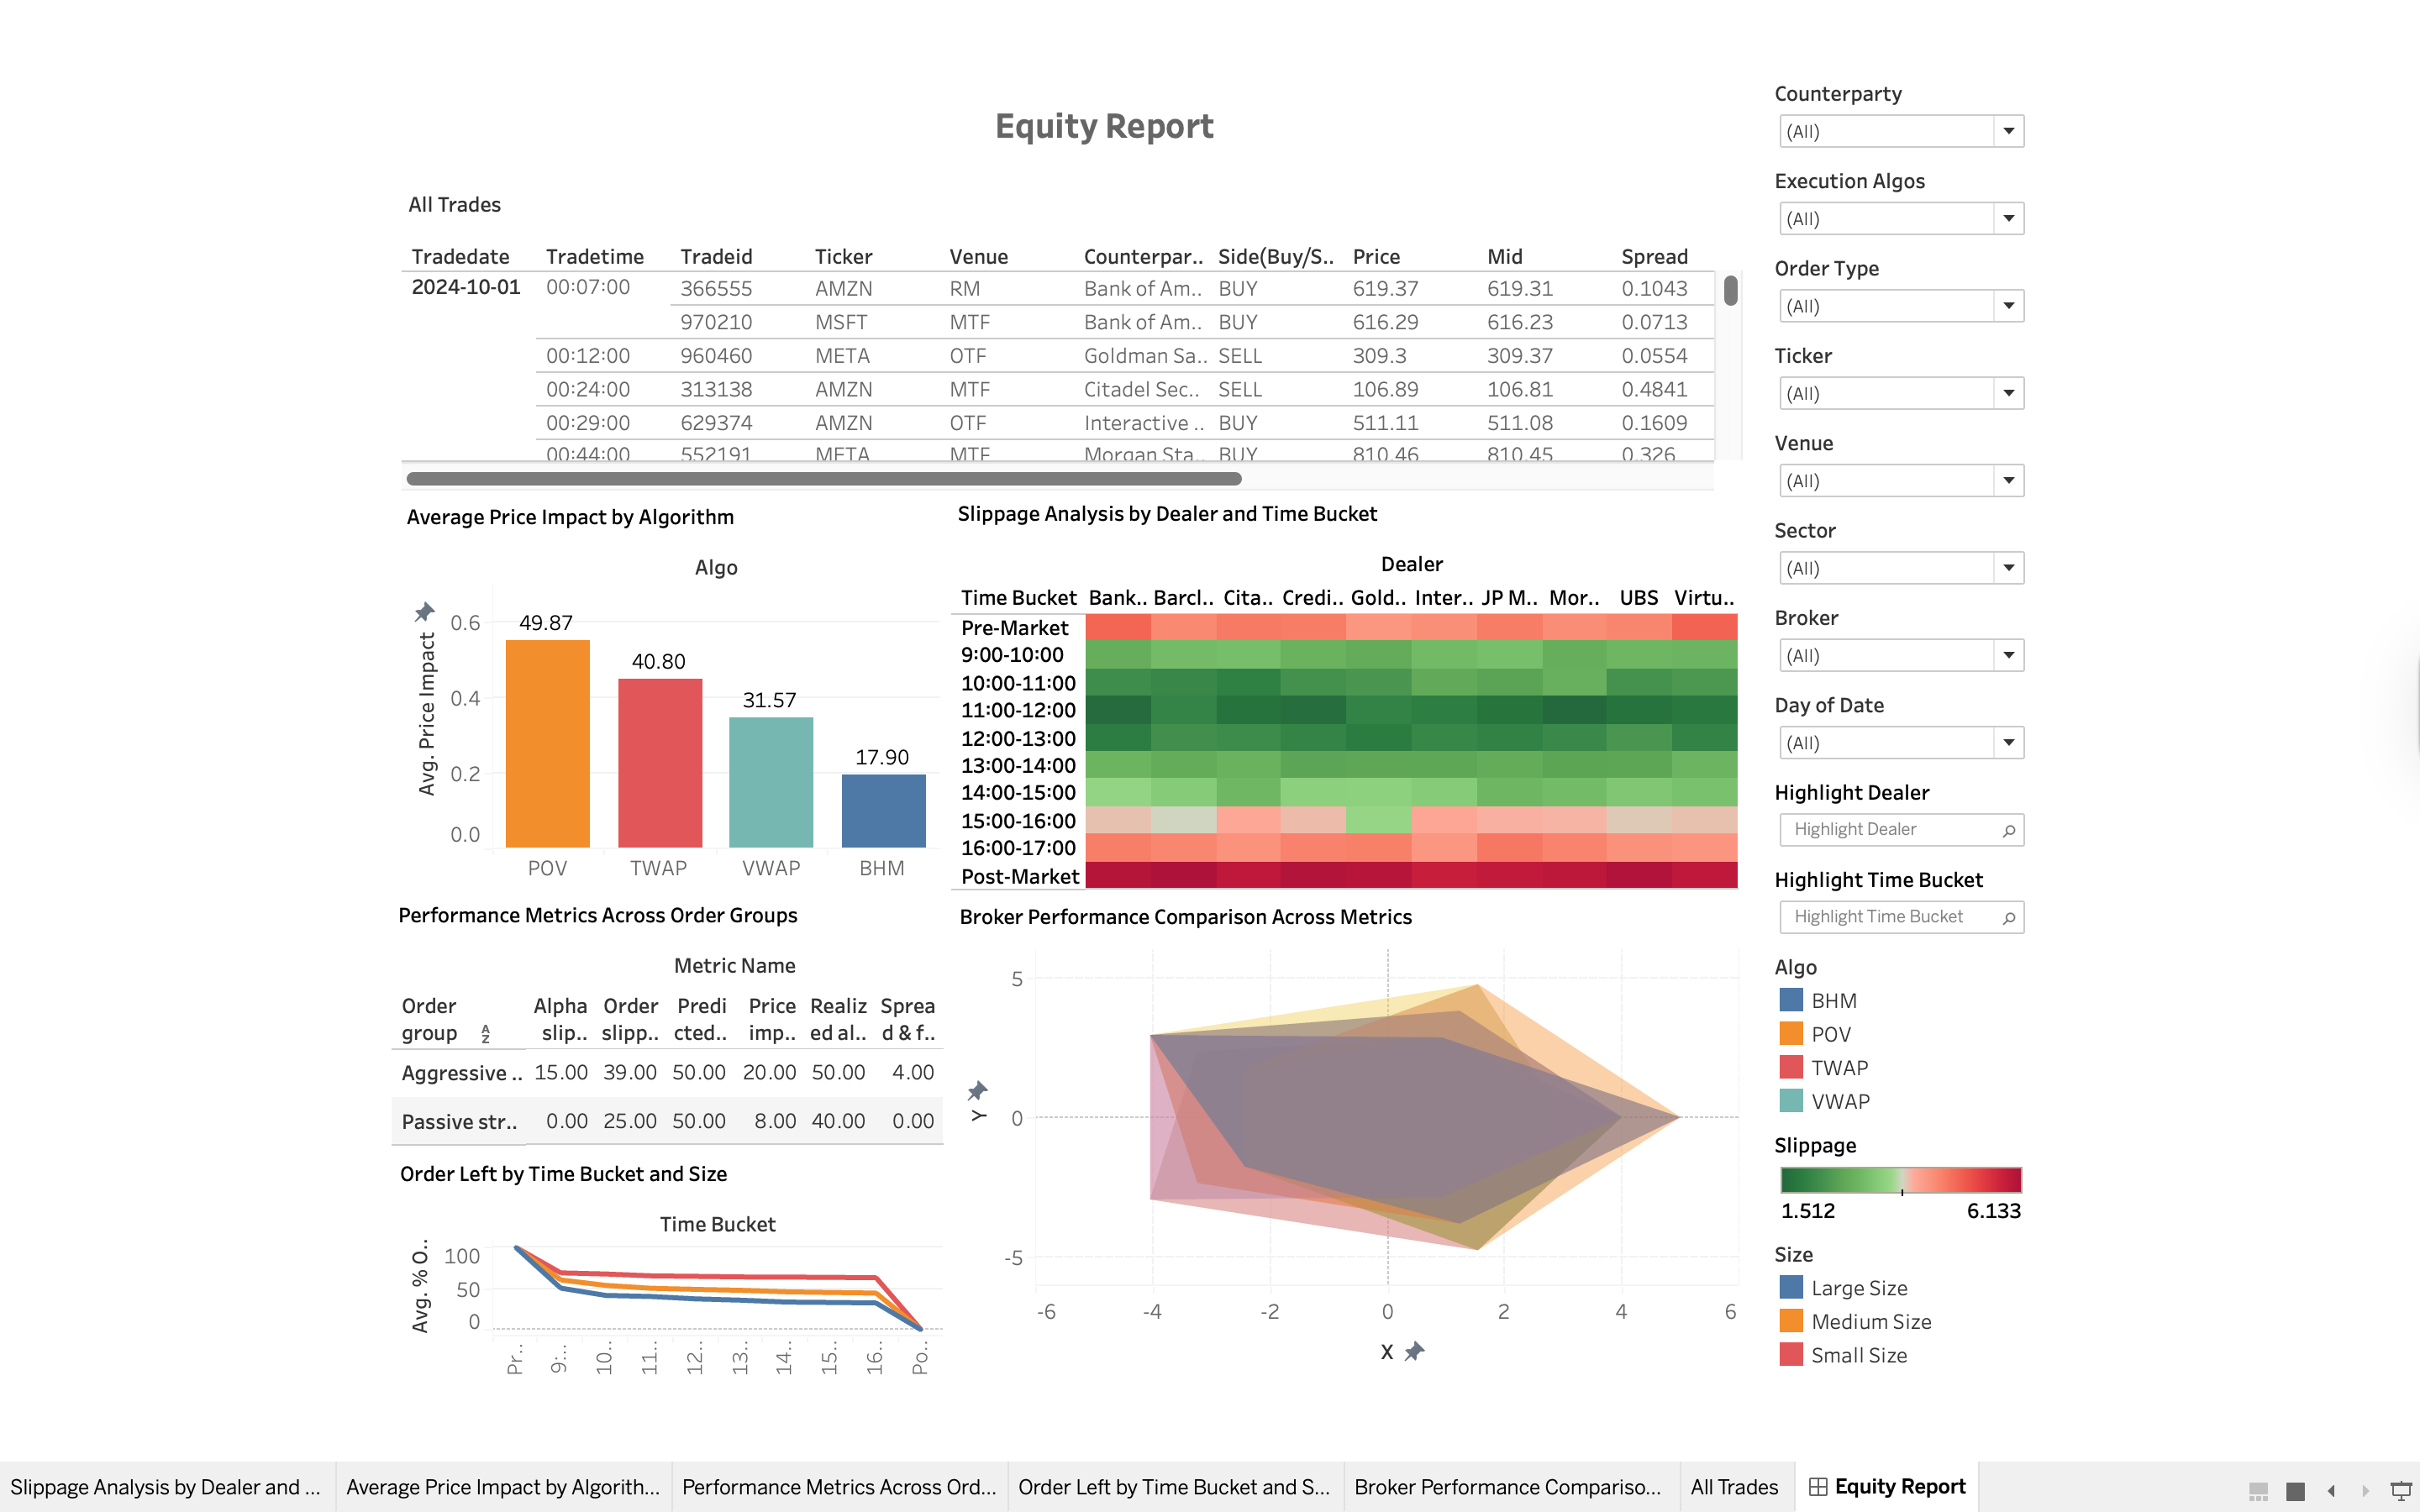

The dashboard page shown, as its layout file describes it:
{"tool":"tableau","page":{"name":"Equity Report","canvas":[1000,800],"ordinal":0},"visuals":[{"type":"filter","title":"All Trades","param":"[federated.0vaf5np0t12x7p1fu6e6317jiwx7].[none:COUNTERPARTY:nk]","box":[832,8,160,52]},{"type":"text","box":[280,14,315,50]},{"type":"filter","title":"All Trades","param":"[federated.0vaf5np0t12x7p1fu6e6317jiwx7].[none:EXECUTION_ALGOS:nk]","box":[832,60,160,52]},{"type":"worksheet","title":"All Trades","mark":"Automatic","rows":["TRADEDATE","TRADETIME","TRADEID","TICKER","VENUE","COUNTERPARTY","SIDE(BUY/SELL)","PRICE","Mid Rounded","SPREAD","SECTOR","ORDER_TYPE"],"box":[19,74,798,183]},{"type":"filter","title":"All Trades","param":"[federated.0vaf5np0t12x7p1fu6e6317jiwx7].[none:ORDER_TYPE:nk]","box":[832,112,160,52]},{"type":"filter","title":"All Trades","param":"[federated.0vaf5np0t12x7p1fu6e6317jiwx7].[none:TICKER:nk]","box":[832,164,160,52]},{"type":"filter","title":"All Trades","param":"[federated.0vaf5np0t12x7p1fu6e6317jiwx7].[none:VENUE:nk]","box":[832,216,160,52]},{"type":"worksheet","title":"Slippage Analysis by Dealer and Time Bucket","mark":"Automatic","rows":["TimeBucket"],"cols":["Dealer"],"box":[346,258,469,237]},{"type":"worksheet","title":"Average Price Impact by Algorithm","mark":"Automatic","rows":["Price Impact"],"cols":["Algo"],"box":[18,260,321,231]},{"type":"filter","title":"All Trades","param":"[federated.0vaf5np0t12x7p1fu6e6317jiwx7].[none:SECTOR:nk]","box":[832,268,160,52]},{"type":"filter","title":"Broker Performance Comparison Across Metrics","param":"[federated.0jnuinh195tw0g1cz3anx1tduug1].[none:Broker:nk]","box":[832,320,160,52]},{"type":"filter","title":"Order Left by Time Bucket and Size","param":"[federated.01t79go0wpz6yz143s2tk151s2ji].[dy:Date:ok]","box":[832,372,160,52]},{"type":"highlighter","title":"Slippage Analysis by Dealer and Time Bucket","param":"[federated.0ywah6y0oq7s411h96m9h0sdvwv5].[none:Dealer:nk]","box":[832,424,160,52]},{"type":"highlighter","title":"Slippage Analysis by Dealer and Time Bucket","param":"[federated.0ywah6y0oq7s411h96m9h0sdvwv5].[none:TimeBucket:nk]","box":[832,476,160,52]},{"type":"worksheet","title":"Performance Metrics Across Order Groups","mark":"Automatic","rows":["Order group"],"cols":["Metric Name"],"box":[13,497,329,150]},{"type":"worksheet","title":"Broker Performance Comparison Across Metrics","mark":"Polygon","rows":["Calculation_3502393152682983452"],"cols":["Calculation_3502393152682934299"],"box":[347,498,468,287]},{"type":"legend","title":"Average Price Impact by Algorithm","param":"[federated.1ozk8iu01wn8i01cn0hkf097exgp].[none:Algo:nk]","box":[832,528,160,106]},{"type":"legend","title":"Slippage Analysis by Dealer and Time Bucket","param":"[federated.0ywah6y0oq7s411h96m9h0sdvwv5].[sum:Slippage:qk]","box":[832,634,160,65]},{"type":"worksheet","title":"Order Left by Time Bucket and Size","mark":"Line","rows":["% Order Left"],"cols":["TimeBucket"],"box":[14,651,327,135]},{"type":"legend","title":"Order Left by Time Bucket and Size","param":"[federated.01t79go0wpz6yz143s2tk151s2ji].[none:Cap:nk]","box":[832,699,160,86]}]}

Visuals, with their boxes on the page's 1000x800 design canvas (x1, y1, x2, y2). These are canvas units, not pixel positions in the 2420x1512 screenshot, which may show the page scaled, cropped or inside an application window:
"All Trades" filter: [left=832, top=8, right=992, bottom=60]
text: [left=280, top=14, right=595, bottom=64]
"All Trades" filter: [left=832, top=60, right=992, bottom=112]
"All Trades" worksheet: [left=19, top=74, right=817, bottom=257]
"All Trades" filter: [left=832, top=112, right=992, bottom=164]
"All Trades" filter: [left=832, top=164, right=992, bottom=216]
"All Trades" filter: [left=832, top=216, right=992, bottom=268]
"Slippage Analysis by Dealer and Time Bucket" worksheet: [left=346, top=258, right=815, bottom=495]
"Average Price Impact by Algorithm" worksheet: [left=18, top=260, right=339, bottom=491]
"All Trades" filter: [left=832, top=268, right=992, bottom=320]
"Broker Performance Comparison Across Metrics" filter: [left=832, top=320, right=992, bottom=372]
"Order Left by Time Bucket and Size" filter: [left=832, top=372, right=992, bottom=424]
"Slippage Analysis by Dealer and Time Bucket" highlighter: [left=832, top=424, right=992, bottom=476]
"Slippage Analysis by Dealer and Time Bucket" highlighter: [left=832, top=476, right=992, bottom=528]
"Performance Metrics Across Order Groups" worksheet: [left=13, top=497, right=342, bottom=647]
"Broker Performance Comparison Across Metrics" worksheet (Polygon marks): [left=347, top=498, right=815, bottom=785]
"Average Price Impact by Algorithm" legend: [left=832, top=528, right=992, bottom=634]
"Slippage Analysis by Dealer and Time Bucket" legend: [left=832, top=634, right=992, bottom=699]
"Order Left by Time Bucket and Size" worksheet (Line marks): [left=14, top=651, right=341, bottom=786]
"Order Left by Time Bucket and Size" legend: [left=832, top=699, right=992, bottom=785]
